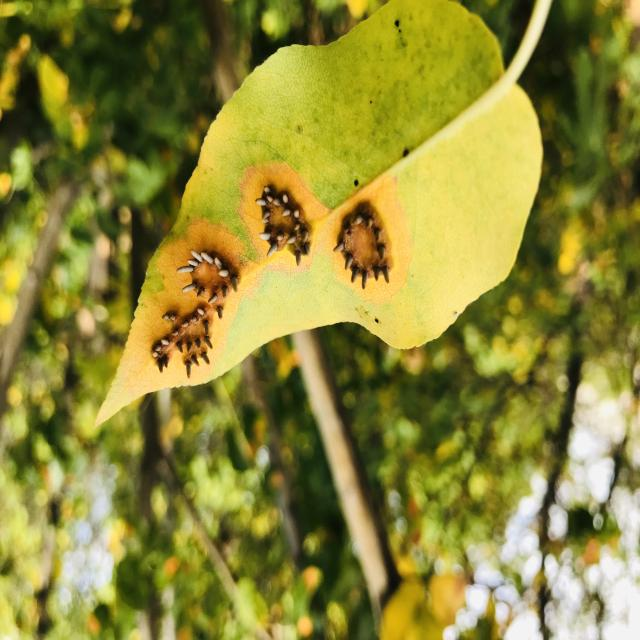Gymnosporangium_Rusts: (92, 1, 548, 430)
